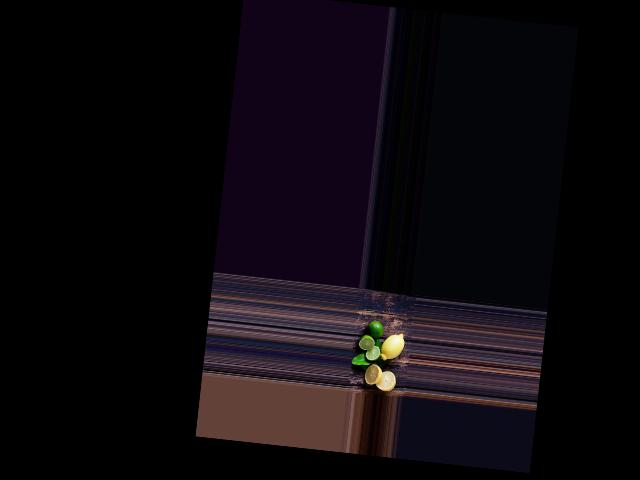lemon: (377, 329, 406, 363)
